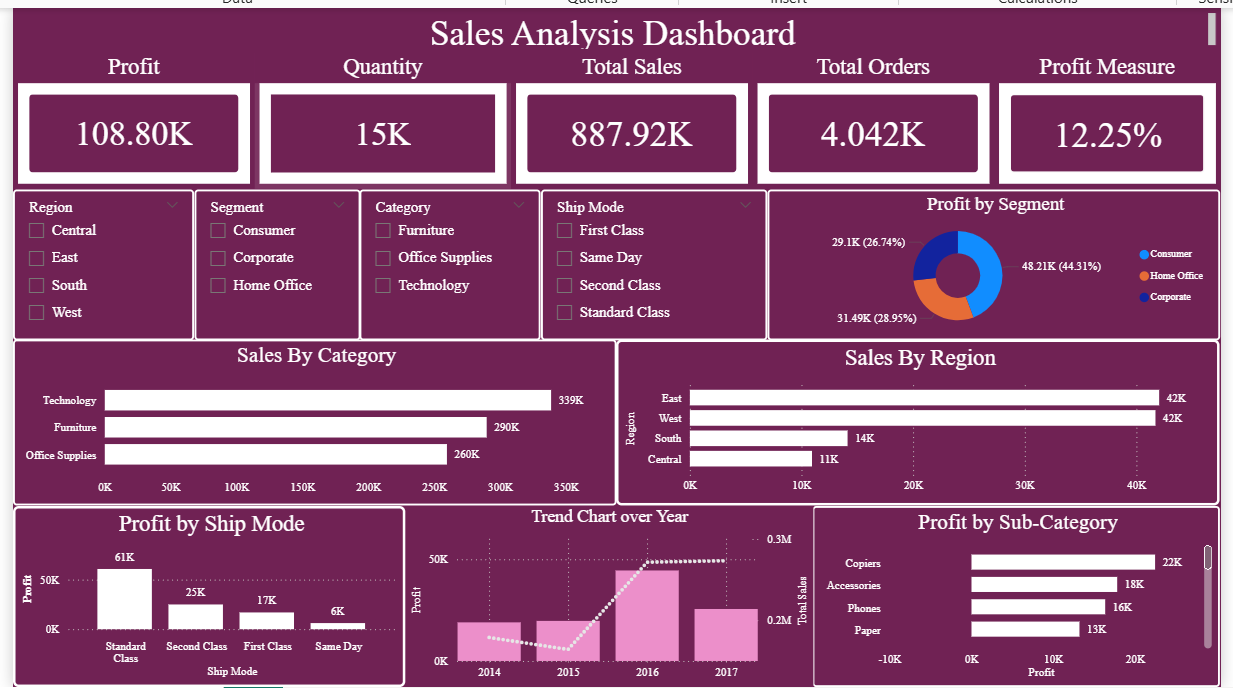

Layout of this report page (visuals, bound fields, positions):
{"tool":"powerbi","page":{"name":"Sales Of Super Market","canvas":[1280,720],"ordinal":0},"visuals":[{"type":"barChart","title":"Sales By Region","fields":{"Category":["Sample - Superstore.Region"],"Y":["Sum(Sample - Superstore.Profit)"]},"box":[640,352,640,176],"z":0},{"type":"clusteredBarChart","title":"Sales By Category","fields":{"Y":["Sum(Sample - Superstore.Sales)"],"Category":["Sample - Superstore.Category"]},"box":[0,352,640,176],"z":1000},{"type":"barChart","title":"Profit  by Sub-Category","fields":{"Category":["Sample - Superstore.Sub-Category"],"Y":["Sum(Sample - Superstore.Profit)"]},"box":[640,528,640,192],"z":2000},{"type":"donutChart","title":" Profit by Segment","fields":{"Y":["Sum(Sample - Superstore.Profit)"],"Category":["Sample - Superstore.Segment"]},"box":[800,192,480,160],"z":3000},{"type":"clusteredColumnChart","title":" Profit by Ship Mode","fields":{"Category":["Sample - Superstore.Ship Mode"],"Y":["Sum(Sample - Superstore.Profit)"]},"box":[0,528,640,192],"z":4000},{"type":"slicer","fields":{"Values":["Sample - Superstore.Region"]},"box":[0,192,192,160],"z":5000},{"type":"slicer","fields":{"Values":["Sample - Superstore.Category"]},"box":[368,192,192,160],"z":6000},{"type":"slicer","fields":{"Values":["Sample - Superstore.Segment"]},"box":[192,192,176,160],"z":7000},{"type":"slicer","fields":{"Values":["Sample - Superstore.Ship Mode"]},"box":[560,192,240,160],"z":8000},{"type":"textbox","box":[0,0,1280,48],"z":9000},{"type":"cardVisual","title":"Quantity","fields":{"Data":["Sum(Sample - Superstore.Quantity)"]},"box":[256,48,272,144],"z":10000},{"type":"cardVisual","title":"Profit","fields":{"Data":["Sum(Sample - Superstore.Profit)"]},"box":[0,48,256,144],"z":11000},{"type":"cardVisual","title":"Total  Sales","fields":{"Data":["Sum(Sample - Superstore.Sales)"]},"box":[528,48,256,144],"z":12000},{"type":"cardVisual","title":"Total Orders","fields":{"Data":["CountNonNull(Sample - Superstore.Order ID)"]},"box":[784,48,256,144],"z":13000},{"type":"cardVisual","title":"Profit Measure ","fields":{"Data":["Sample - Superstore.Measure"]},"box":[1040,48,240,144],"z":14000}]}

Visuals, with their boxes in screenshot pixels (x1, y1, x2, y2):
"Sales By Region" barChart: left=612, top=335, right=1214, bottom=500
"Sales By Category" clusteredBarChart: left=10, top=335, right=612, bottom=500
"Profit  by Sub-Category" barChart: left=612, top=500, right=1214, bottom=681
" Profit by Segment" donutChart: left=763, top=184, right=1214, bottom=335
" Profit by Ship Mode" clusteredColumnChart: left=10, top=500, right=612, bottom=681
slicer - Sample - Superstore.Region: left=10, top=184, right=190, bottom=335
slicer - Sample - Superstore.Category: left=356, top=184, right=537, bottom=335
slicer - Sample - Superstore.Segment: left=190, top=184, right=356, bottom=335
slicer - Sample - Superstore.Ship Mode: left=537, top=184, right=763, bottom=335
textbox: left=10, top=3, right=1214, bottom=48
"Quantity" cardVisual: left=251, top=48, right=507, bottom=184
"Profit" cardVisual: left=10, top=48, right=251, bottom=184
"Total  Sales" cardVisual: left=507, top=48, right=748, bottom=184
"Total Orders" cardVisual: left=748, top=48, right=988, bottom=184
"Profit Measure " cardVisual: left=988, top=48, right=1214, bottom=184
